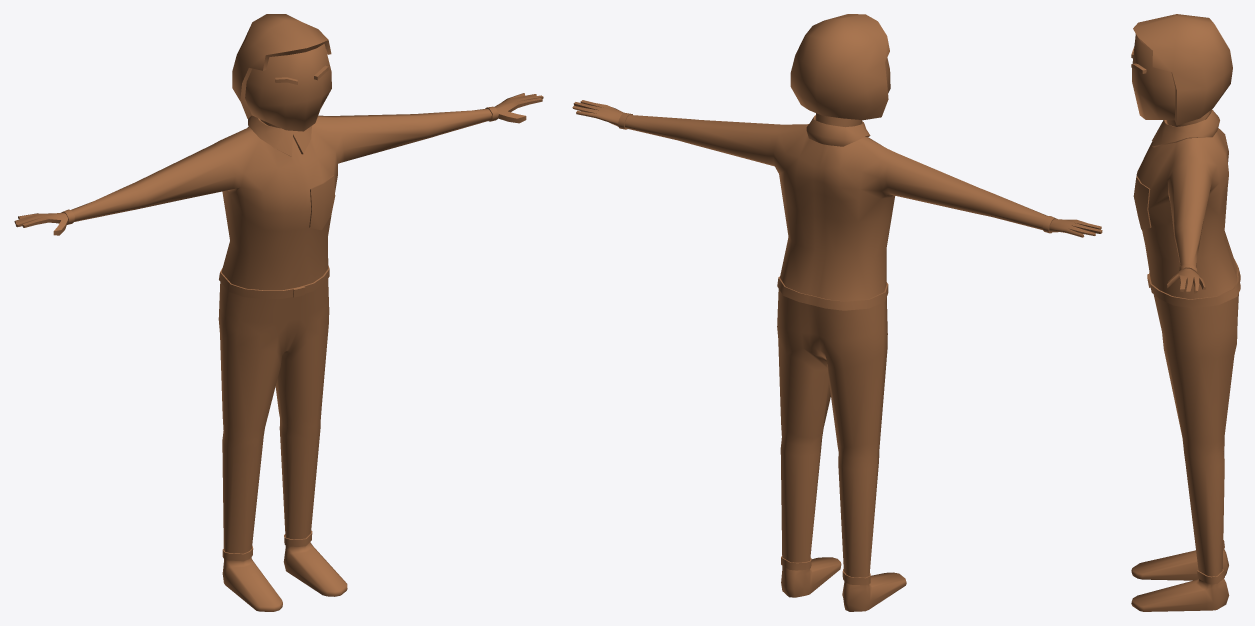
3 views of the same model, side by side, from view 1: azimuth 30°, elevation 25°; view 2: azimuth 150°, elevation 25°; view 3: azimuth 270°, elevation 25° (orthographic).
Parts seen in each view (by area): view 1: Cube008; view 2: Cube008; view 3: Cube008.
Part boxes in pixels (bbox=[...]): Cube008: bbox=[14, 14, 543, 611]; Cube008: bbox=[572, 14, 1102, 611]; Cube008: bbox=[1131, 14, 1240, 611].
Bounding box in the file's own units: 111 × 115 × 19.84.
